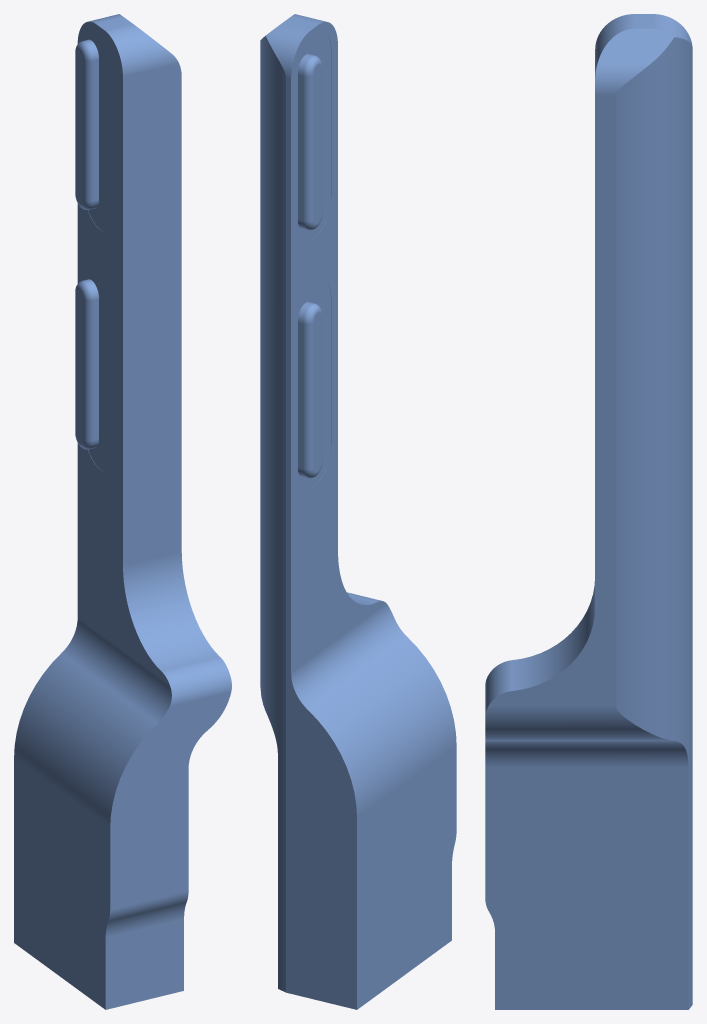
File: VY2_SIMPLE_005.gltf
The picture shows the model from 3 angles, left to right: view 1: azimuth 30°, elevation 25°; view 2: azimuth 150°, elevation 25°; view 3: azimuth 270°, elevation 25°; orthographic projection. The views are drawn at different scales.
Parts seen in each view (by area): view 1: mesh1099, mesh1114, mesh1094, mesh1112, mesh1108, mesh1100, mesh1118, mesh1106, mesh1089, mesh1120, mesh1105, mesh1098 (+8 smaller); view 2: mesh1109, mesh1110, mesh1114, mesh1094, mesh1108, mesh1106, mesh1120, mesh1089, mesh1086, mesh1129, mesh1081, mesh1127 (+3 smaller); view 3: mesh1110, mesh1115, mesh1104, mesh1111, mesh1107, mesh1100, mesh1102, mesh1103, mesh1105, mesh1098, mesh1101.
Part boxes in pixels (x1=…): mesh1099: x1=123, y1=63, x2=181, y2=565; mesh1114: x1=14, y1=758, x2=110, y2=1009; mesh1094: x1=77, y1=21, x2=169, y2=683; mesh1112: x1=110, y1=692, x2=231, y2=909; mesh1108: x1=14, y1=653, x2=157, y2=828; mesh1100: x1=123, y1=551, x2=219, y2=670; mesh1118: x1=105, y1=919, x2=183, y2=1009; mesh1106: x1=61, y1=617, x2=171, y2=723; mesh1089: x1=85, y1=268, x2=116, y2=471; mesh1120: x1=85, y1=29, x2=116, y2=231; mesh1105: x1=161, y1=657, x2=231, y2=706; mesh1098: x1=105, y1=23, x2=178, y2=76; mesh1109: x1=286, y1=78, x2=356, y2=1009; mesh1110: x1=260, y1=36, x2=285, y2=992; mesh1114: x1=357, y1=746, x2=456, y2=1009; mesh1094: x1=291, y1=22, x2=385, y2=672; mesh1108: x1=308, y1=637, x2=456, y2=818; mesh1106: x1=291, y1=603, x2=407, y2=709; mesh1120: x1=298, y1=29, x2=330, y2=239; mesh1089: x1=298, y1=277, x2=330, y2=487; mesh1086: x1=303, y1=323, x2=313, y2=469; mesh1129: x1=303, y1=75, x2=313, y2=221; mesh1081: x1=314, y1=312, x2=321, y2=472; mesh1127: x1=314, y1=64, x2=321, y2=224; mesh1110: x1=616, y1=37, x2=692, y2=1009; mesh1115: x1=485, y1=767, x2=688, y2=1009; mesh1104: x1=489, y1=95, x2=615, y2=705; mesh1111: x1=485, y1=740, x2=688, y2=767; mesh1107: x1=485, y1=705, x2=671, y2=740; mesh1100: x1=512, y1=581, x2=594, y2=690; mesh1102: x1=597, y1=28, x2=674, y2=62; mesh1103: x1=595, y1=63, x2=651, y2=95; mesh1105: x1=485, y1=660, x2=512, y2=714; mesh1098: x1=595, y1=14, x2=634, y2=76; mesh1101: x1=653, y1=14, x2=692, y2=48.
Size of the model in its own units: 0.0159 by 0.1135 by 0.0216.
